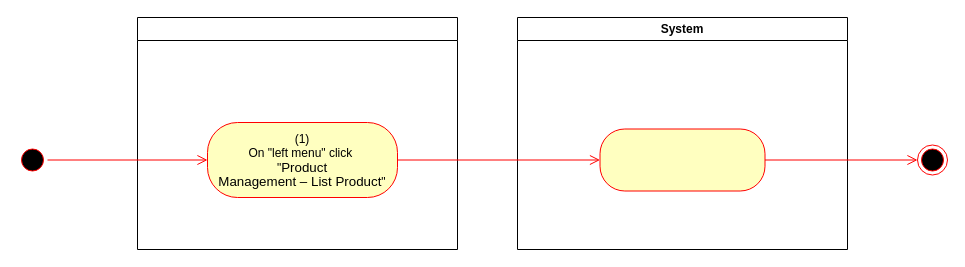
Image size: 965x267. Some labels were removed from this diagram. Each missing label, with the box of its shape:
(2) Load " List Product (Seller) " Screen: (599, 128, 765, 191)
User: (136, 16, 458, 250)
